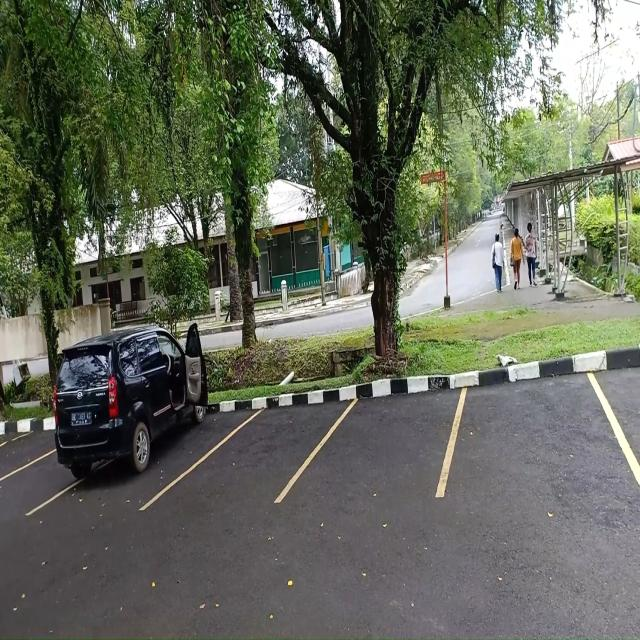empty: (448, 346, 612, 508), (316, 370, 448, 500), (201, 373, 310, 508)
occupied: (50, 384, 204, 511)
